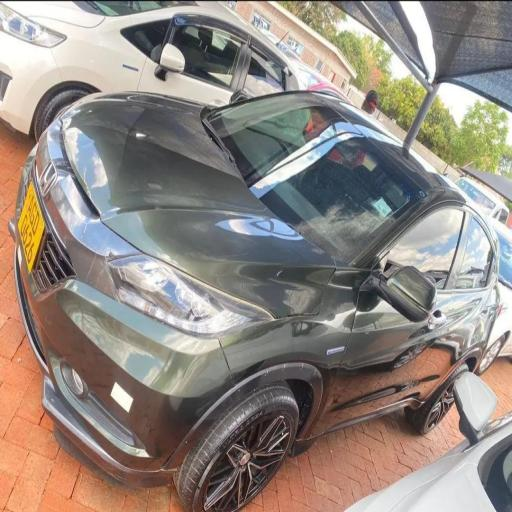number-plates: (14, 182, 43, 268)
